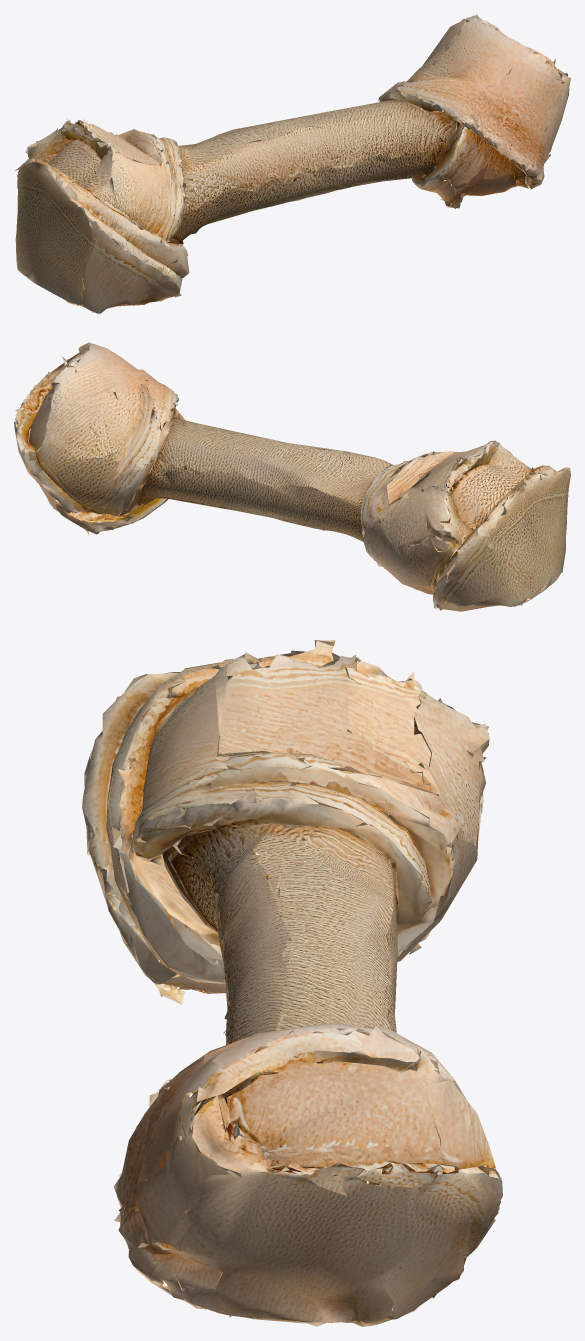
Rendered from P_Rawhide_h5.fbx.
3 views of the same model, one above another, from view 1: azimuth 30°, elevation 25°; view 2: azimuth 150°, elevation 25°; view 3: azimuth 270°, elevation 25° (orthographic). The views are drawn at different scales.
Parts seen in each view (by area): view 1: surface_7; view 2: surface_7; view 3: surface_7.
Part boxes in pixels (x1,y1,x2,y2): surface_7: (15, 14, 570, 313); surface_7: (14, 342, 570, 611); surface_7: (82, 640, 502, 1326).
Size of the model in its own units: 3.34 by 1 by 1.19.
Materials: 1 (1 with a texture image).
